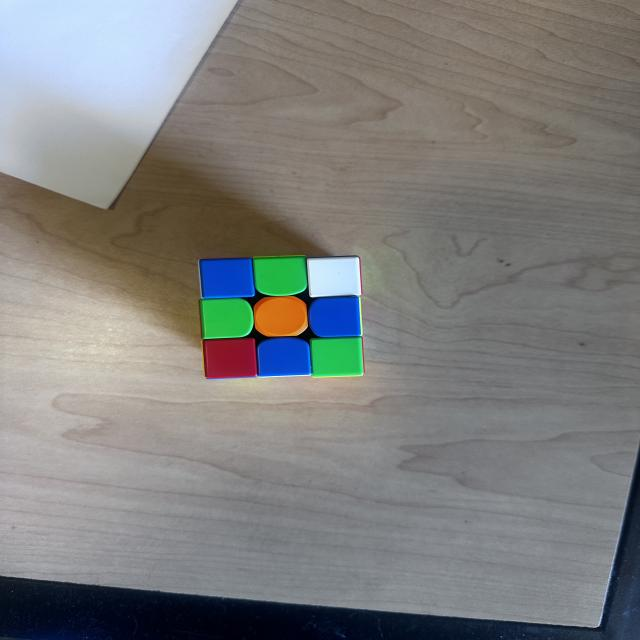sticker: (197, 256, 256, 302), (200, 336, 260, 380), (252, 255, 310, 298), (306, 256, 363, 299), (200, 297, 255, 341), (308, 295, 363, 339), (252, 296, 309, 338), (309, 336, 365, 378), (256, 337, 312, 378)
